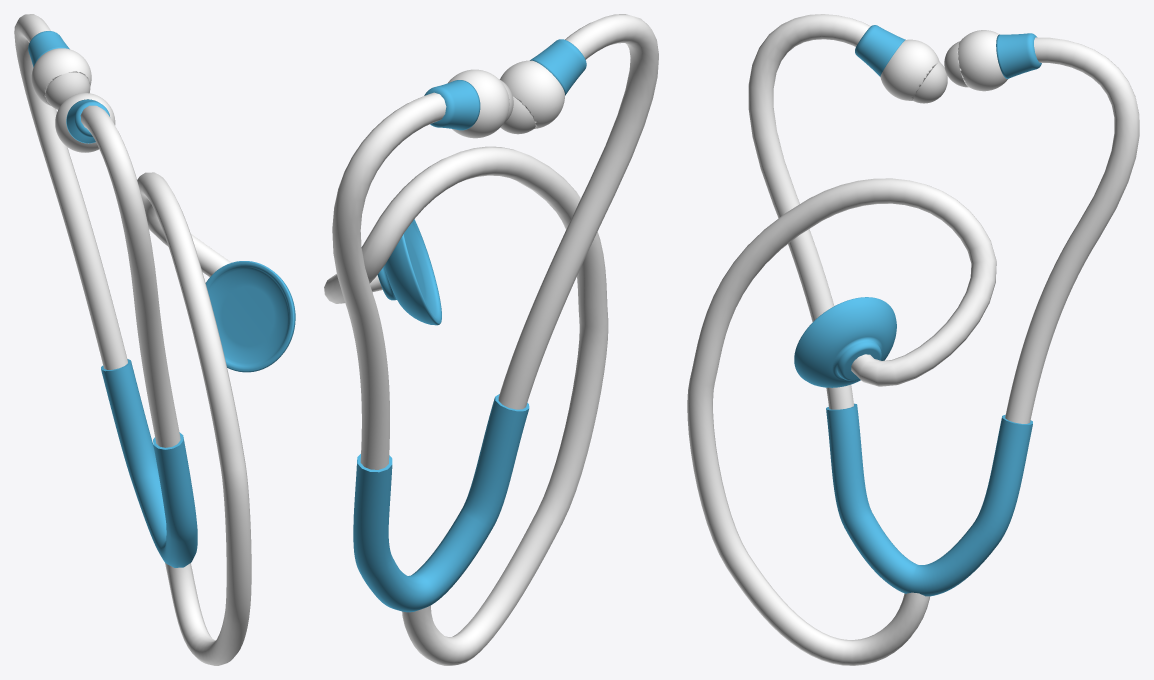
File: school-of-nursing.glb
3 views of the same model, side by side, from view 1: azimuth 30°, elevation 25°; view 2: azimuth 150°, elevation 25°; view 3: azimuth 270°, elevation 25° (orthographic). The views are drawn at different scales.
Parts seen in each view (by area): view 1: cords/glass, cord/glass.001, cords/color, medical-piece/color, earpiece/glass.001, earpiece/glass, Sphere.005, earpiece/color, earpiece/color.001; view 2: cords/glass, cord/glass.001, cords/color, medical-piece/color, earpiece/glass, earpiece/glass.001, earpiece/color.001, earpiece/color, Sphere.004; view 3: cord/glass.001, cords/glass, cords/color, medical-piece/color, earpiece/glass, earpiece/glass.001, earpiece/color.001, earpiece/color, Sphere.004.
Part boxes in pixels (x1=…): cords/glass: x1=14, y1=14, x2=180, y2=447; cord/glass.001: x1=137, y1=172, x2=251, y2=665; cords/color: x1=101, y1=359, x2=197, y2=567; medical-piece/color: x1=205, y1=261, x2=295, y2=372; earpiece/glass.001: x1=31, y1=48, x2=91, y2=105; earpiece/glass: x1=55, y1=93, x2=115, y2=152; Sphere.005: x1=45, y1=72, x2=90, y2=109; earpiece/color: x1=66, y1=99, x2=109, y2=143; earpiece/color.001: x1=28, y1=31, x2=69, y2=67; cords/glass: x1=332, y1=14, x2=658, y2=469; cord/glass.001: x1=324, y1=146, x2=608, y2=665; cords/color: x1=353, y1=394, x2=529, y2=612; medical-piece/color: x1=377, y1=219, x2=441, y2=325; earpiece/glass: x1=500, y1=60, x2=564, y2=128; earpiece/glass.001: x1=448, y1=69, x2=509, y2=138; earpiece/color.001: x1=424, y1=80, x2=480, y2=130; earpiece/color: x1=530, y1=39, x2=586, y2=95; Sphere.004: x1=500, y1=96, x2=535, y2=134; cord/glass.001: x1=687, y1=178, x2=996, y2=665; cords/glass: x1=748, y1=14, x2=1139, y2=423; cords/color: x1=826, y1=403, x2=1032, y2=596; medical-piece/color: x1=794, y1=297, x2=896, y2=387; earpiece/glass: x1=880, y1=39, x2=939, y2=100; earpiece/glass.001: x1=957, y1=30, x2=1007, y2=91; earpiece/color.001: x1=996, y1=33, x2=1041, y2=78; earpiece/color: x1=855, y1=25, x2=905, y2=76; Sphere.004: x1=913, y1=61, x2=947, y2=103.
Size of the model in its own units: 0.9507 by 2.39 by 1.65.
